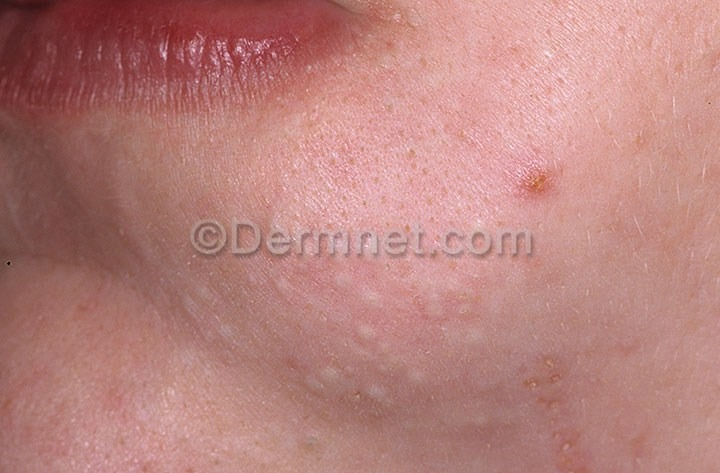Acne: (193, 140, 608, 401)
